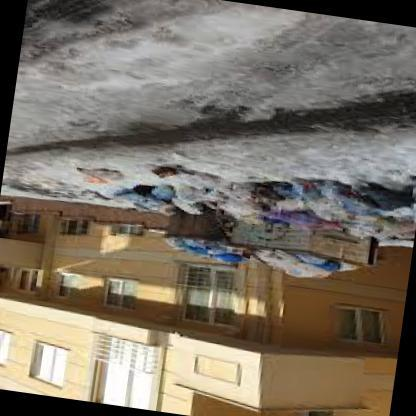Garbage: (101, 144, 415, 247), (290, 176, 390, 226), (262, 248, 354, 282), (163, 234, 246, 269), (146, 163, 206, 193), (214, 183, 270, 214), (64, 162, 124, 188), (304, 194, 347, 219), (372, 216, 414, 239), (150, 190, 186, 209)
